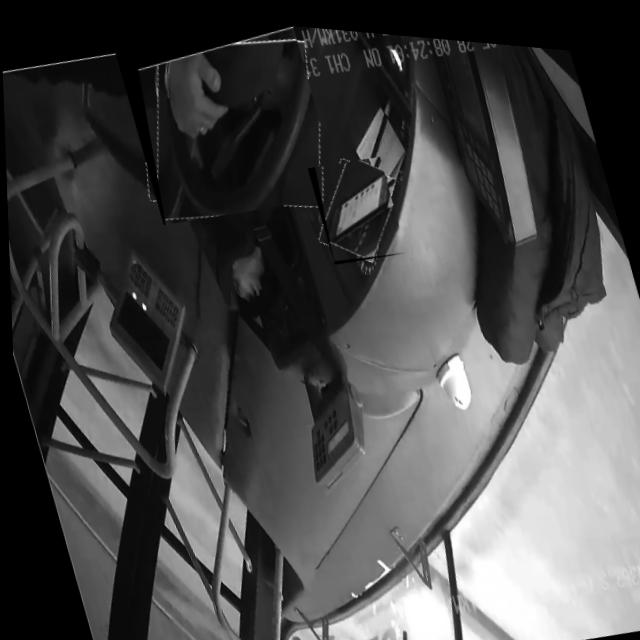phone: (305, 144, 404, 262)
wheel: (113, 8, 339, 232)
